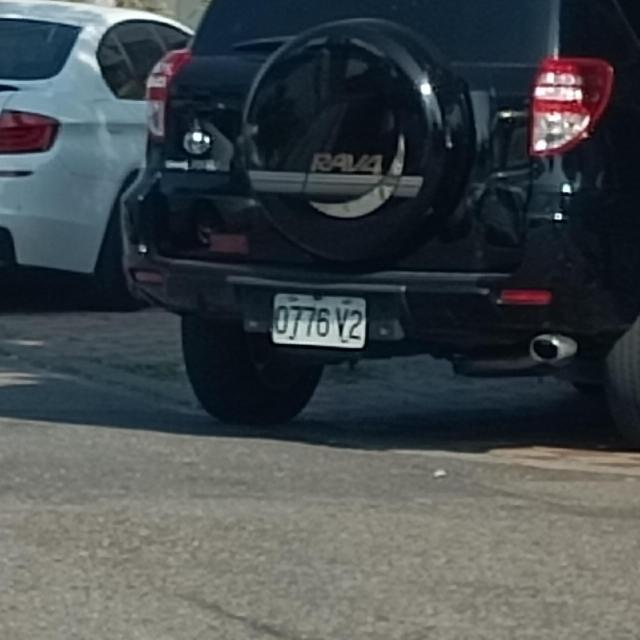W: (267, 288, 370, 352)
